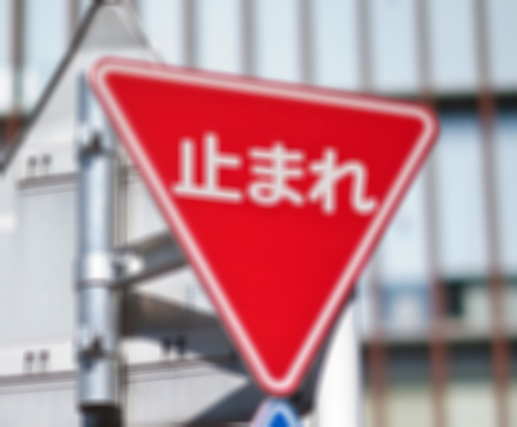Regulatory_sign_triangle: (69, 35, 451, 412)
